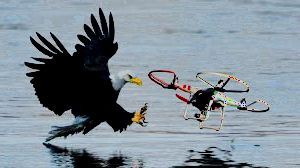Bird: (20, 5, 150, 144)
Drone: (146, 63, 271, 134)
